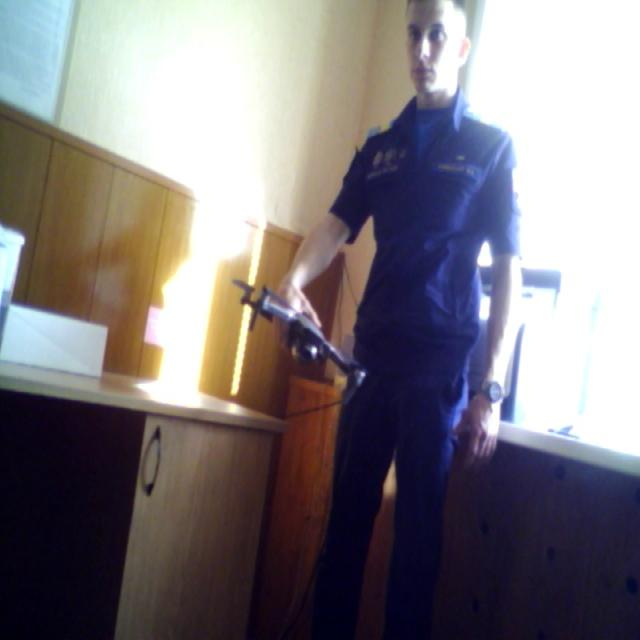drone: (227, 259, 378, 416)
